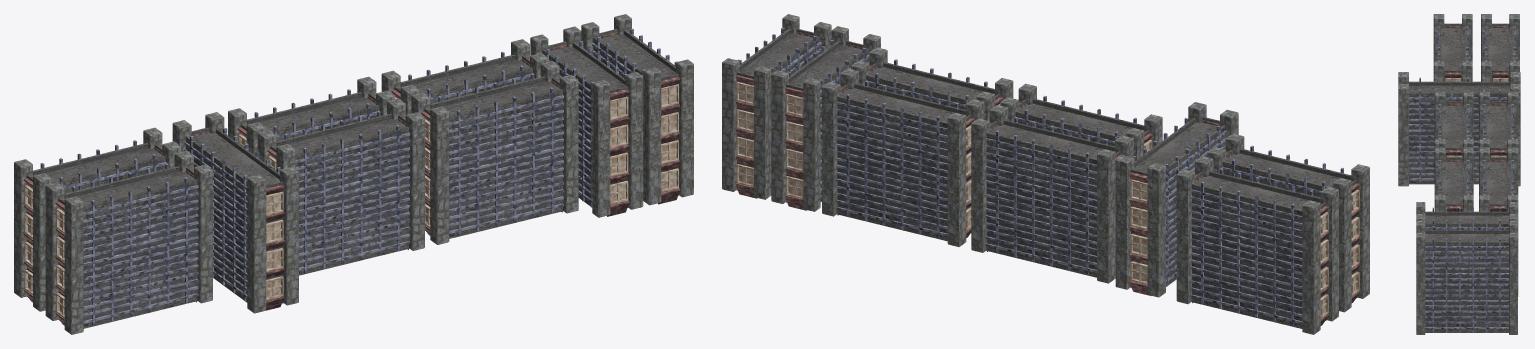
File: Brutalist_Apartment_1.fbx
3 renders of one model, left to right at view 1: azimuth 30°, elevation 25°; view 2: azimuth 150°, elevation 25°; view 3: azimuth 270°, elevation 25°, orthographic. The views are drawn at different scales.
Parts seen in each view (by area): view 1: Brutalist_Apartments; view 2: Brutalist_Apartments; view 3: Brutalist_Apartments.
Part boxes in pixels (x1,y1,x2,y2): Brutalist_Apartments: (14, 14, 693, 334); Brutalist_Apartments: (722, 14, 1369, 334); Brutalist_Apartments: (1398, 14, 1520, 334).
Size of the model in its own units: 6437 by 1374 by 1494.
